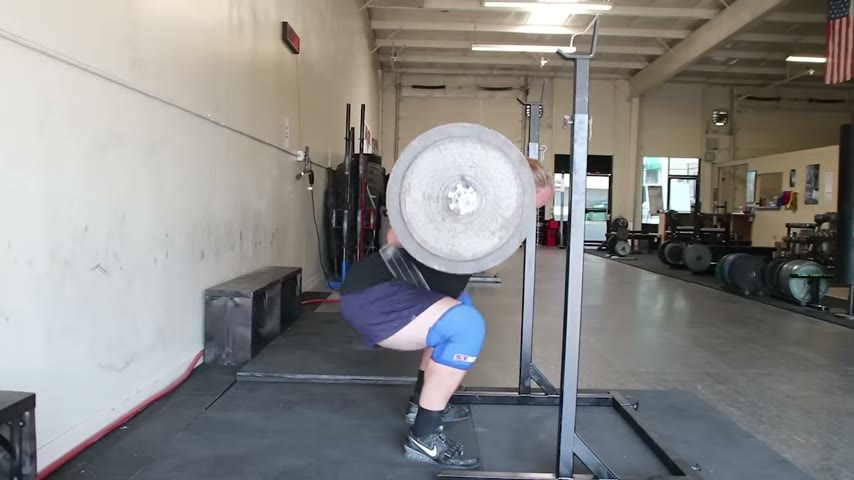barbell_plate_side: (477, 119, 546, 289), (376, 119, 437, 293)
